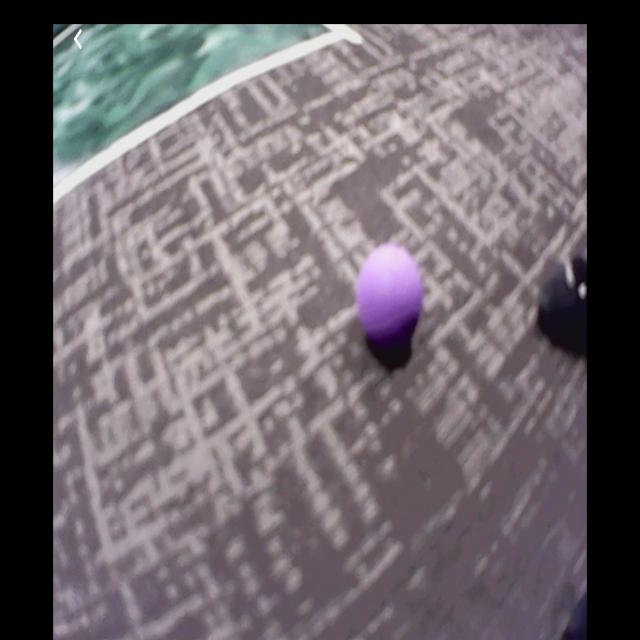ball: (360, 245, 422, 346)
